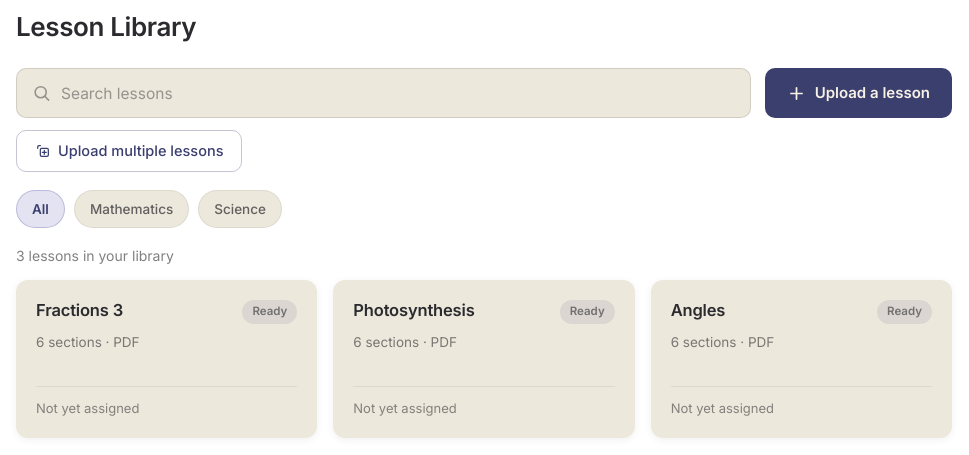
Test: the result line › says how many, and in what, once a subject is picked
Click the button "Mathematics" at [132, 209], box [74,190,189,228]
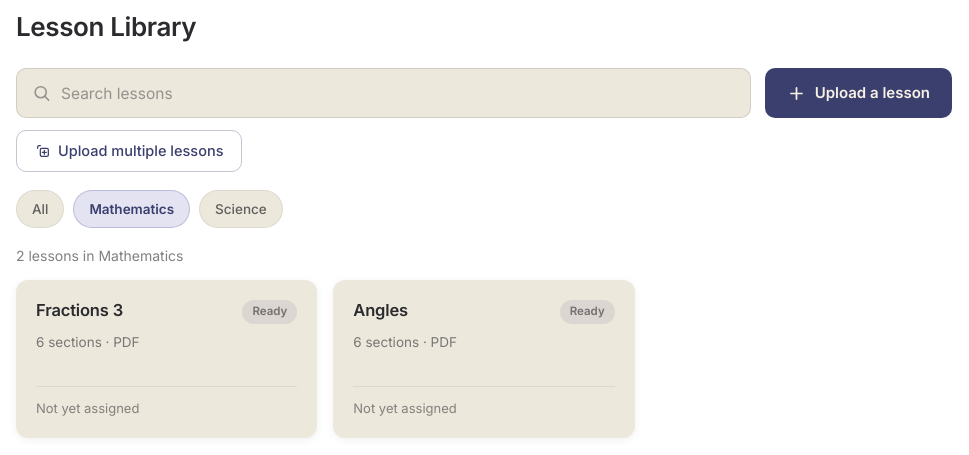
Expected: the text "2 lessons in Mathematics" is shown, [16,247,183,264]
